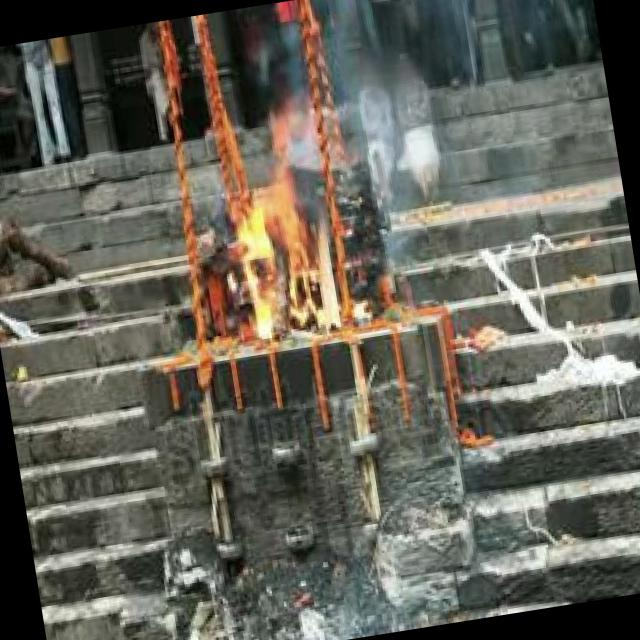Fire: (220, 172, 350, 345)
